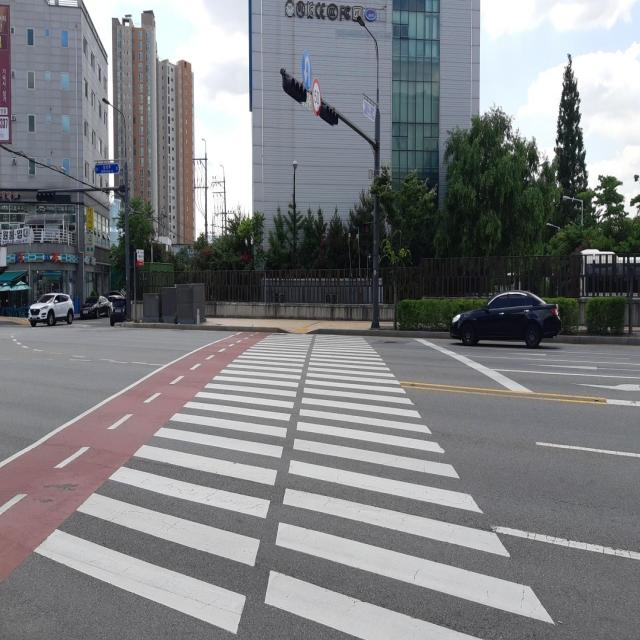횡단보도: (31, 332, 557, 640)
